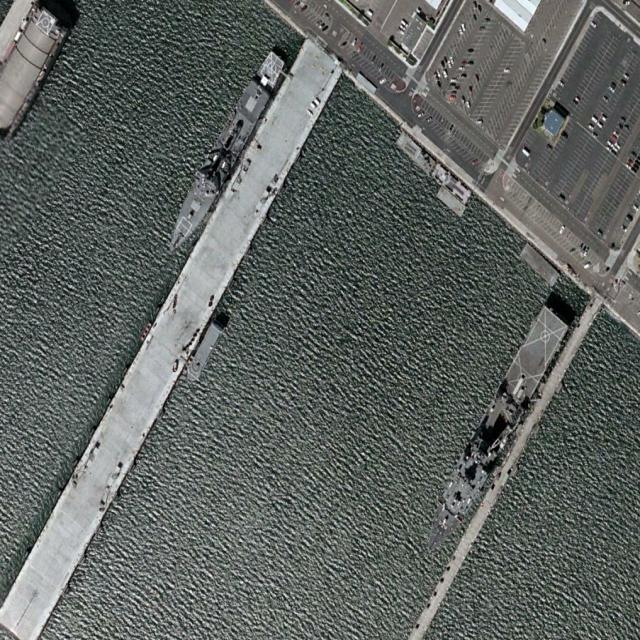Destroyer: (414, 303, 570, 567), (159, 47, 288, 262)
